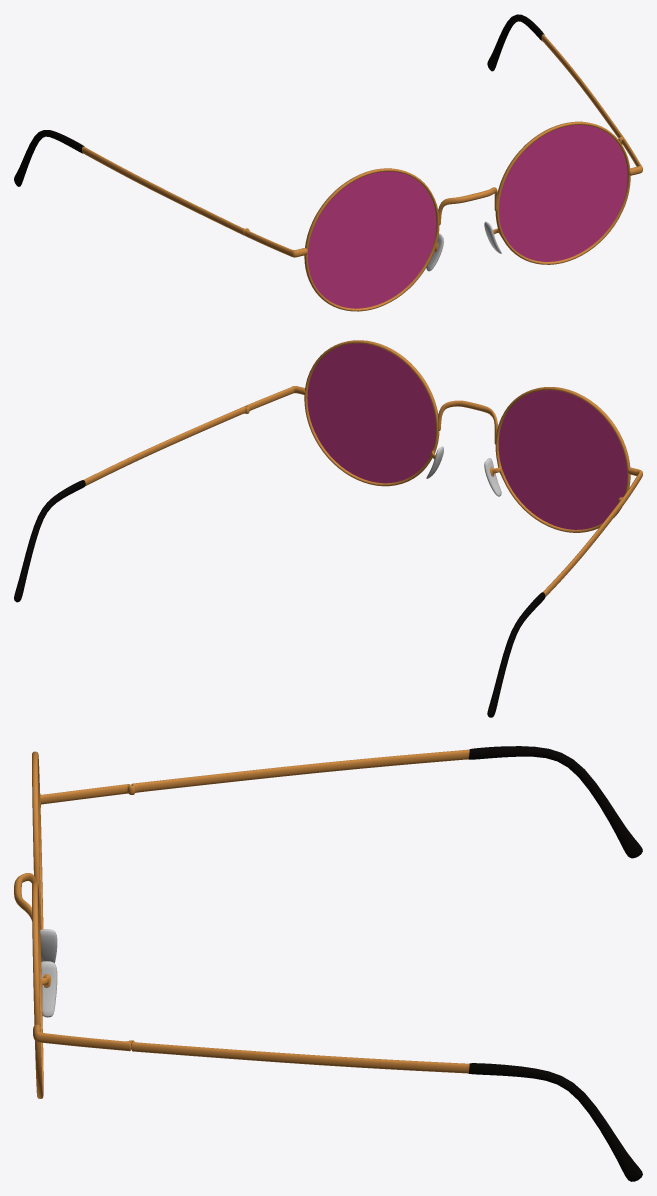
The model's file is Sunglasses_2.obj.
The picture shows the model from 3 angles, top to bottom: view 1: azimuth 30°, elevation 25°; view 2: azimuth 150°, elevation 25°; view 3: azimuth 270°, elevation 25°; orthographic projection. The views are drawn at different scales.
Parts seen in each view (by area): view 1: Cylinder.002, Cube.001_Cube.002, Cylinder.001, Cylinder.003; view 2: Cylinder.002, Cube.001_Cube.002, Cylinder.001, Cylinder.003; view 3: Cube.001_Cube.002, Cylinder.001, Cylinder.003.
Boxes of the visible parts, x1,y1,x2,y2 form: Cylinder.002: (308,125,627,308); Cube.001_Cube.002: (14,14,642,257); Cylinder.001: (304,121,630,311); Cylinder.003: (426,221,501,271); Cylinder.002: (307,343,627,529); Cube.001_Cube.002: (14,386,642,717); Cylinder.001: (304,340,630,532); Cylinder.003: (426,446,501,496); Cube.001_Cube.002: (14,746,642,1181); Cylinder.001: (32,751,50,1098); Cylinder.003: (40,929,57,1017).
Size of the model in its own units: 1.52 by 0.4252 by 1.23.
